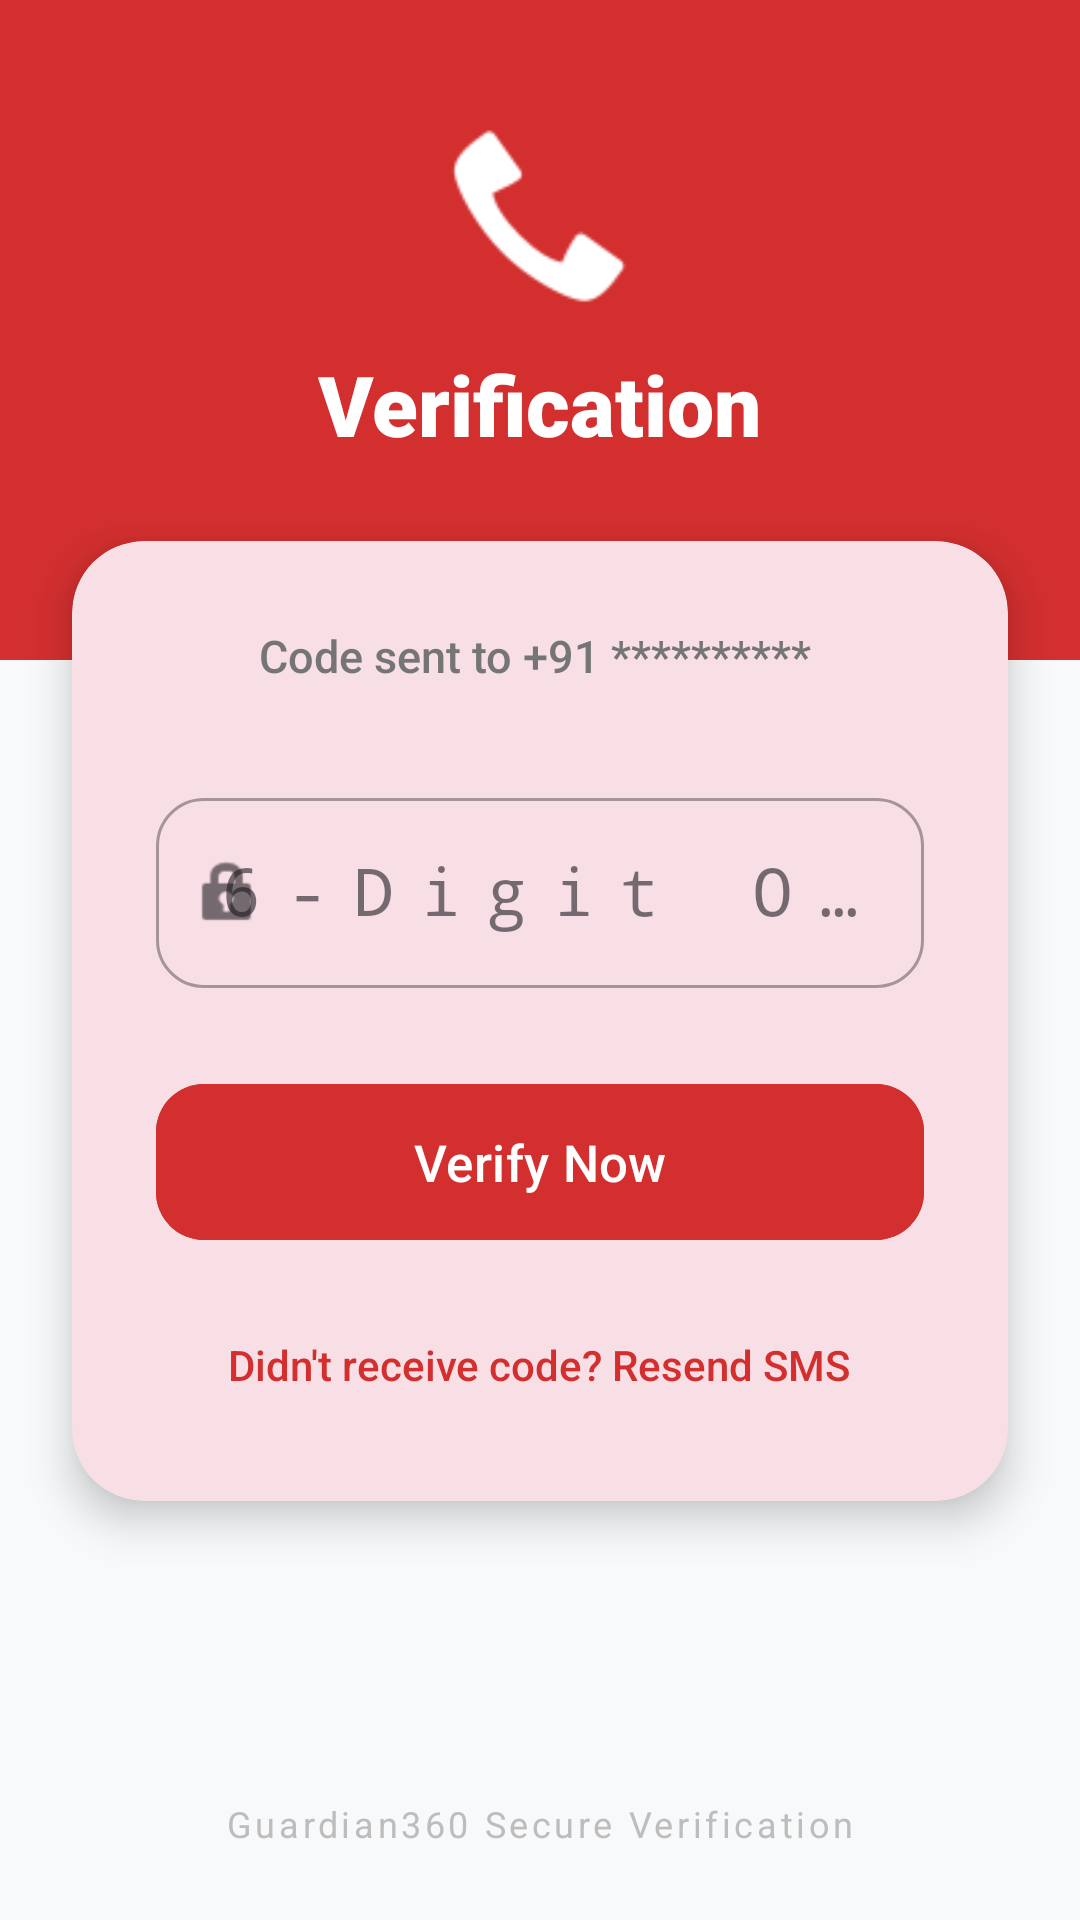

Icons on this 1080 × 1920 Android screen, each with its box as (x1, y1, x2, y2):
phone call: (453, 130, 626, 302)
